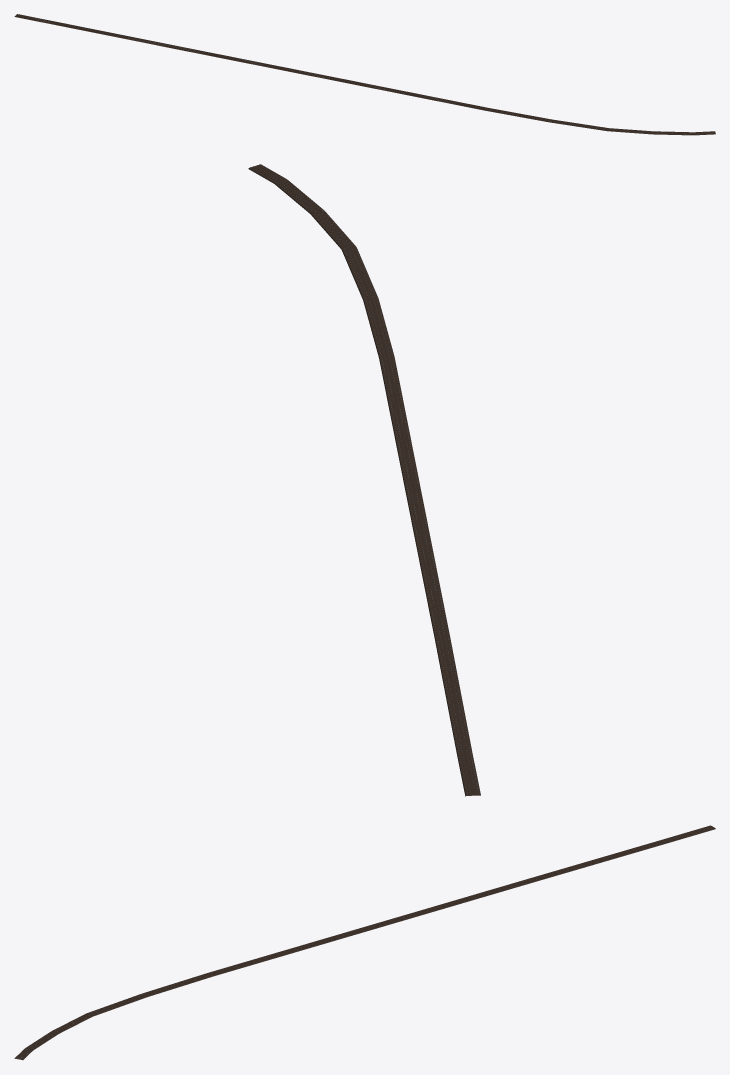
Rendered from kobe_0002.glb.
3 renders of one model, top to bottom at view 1: azimuth 30°, elevation 25°; view 2: azimuth 150°, elevation 25°; view 3: azimuth 270°, elevation 25°, orthographic. The views are drawn at different scales.
Visible parts, largest first — view 1: ballast_top, oxidised_rail_profiles; view 2: ballast_top, oxidised_rail_profiles, ballast_left; view 3: ballast_top, oxidised_rail_profiles, ballast_left.
Part boxes in pixels (x1=…): ballast_top: x1=14, y1=14, x2=715, y2=135; oxidised_rail_profiles: x1=15, y1=14, x2=715, y2=134; ballast_top: x1=249, y1=164, x2=480, y2=795; oxidised_rail_profiles: x1=250, y1=164, x2=478, y2=795; ballast_left: x1=248, y1=168, x2=465, y2=796; ballast_top: x1=14, y1=825, x2=715, y2=1059; oxidised_rail_profiles: x1=15, y1=825, x2=713, y2=1059; ballast_left: x1=22, y1=828, x2=715, y2=1060.
Bounding box in the file's own units: 469 × 0.819 × 593.
Materials: 4 (3 with a texture image).
